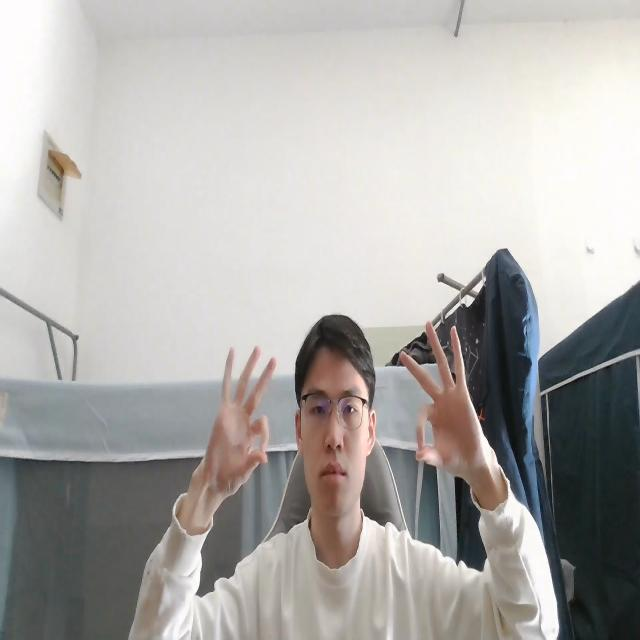ok: (401, 316, 496, 480), (199, 342, 277, 506)
